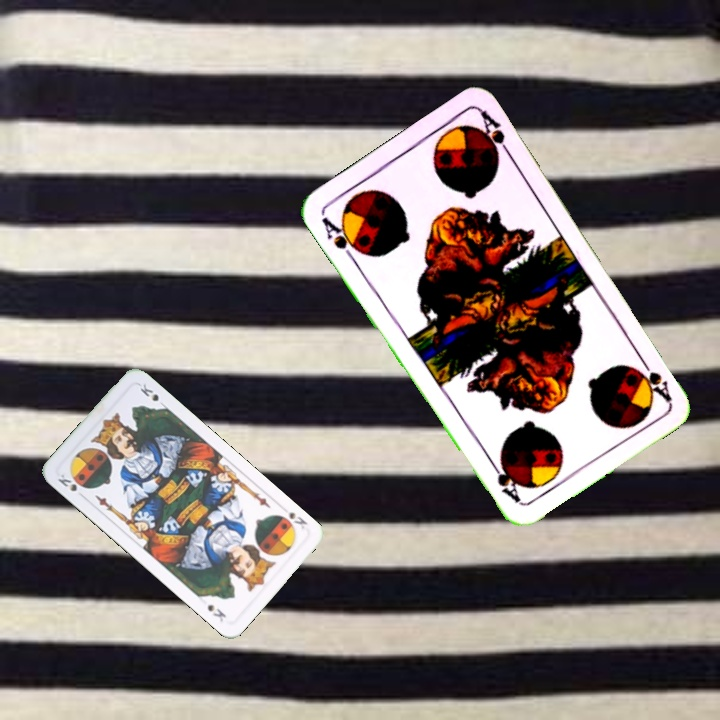SA: (317, 212, 366, 264), (633, 351, 674, 404)
SK: (54, 470, 89, 501), (285, 507, 310, 532)
